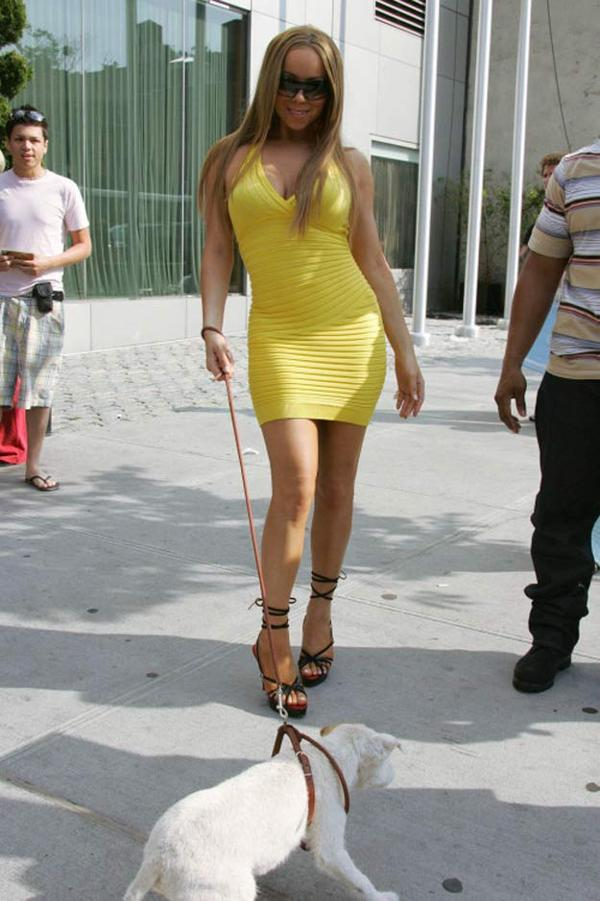person: (202, 38, 419, 721)
